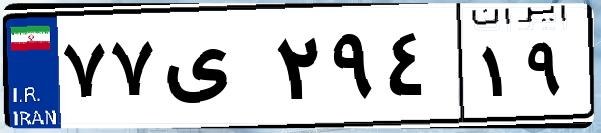1: (475, 38, 525, 113)
2: (270, 28, 330, 110)
4: (385, 28, 445, 110)
7: (57, 26, 110, 100), (110, 28, 158, 98)
9: (330, 28, 385, 110), (525, 38, 570, 115)
ی: (158, 20, 270, 120)
